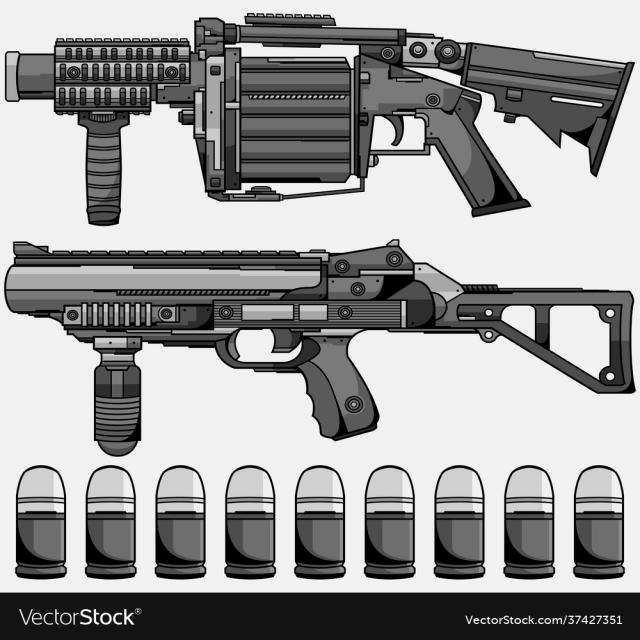Lancher: (0, 11, 628, 229), (4, 248, 640, 427)
